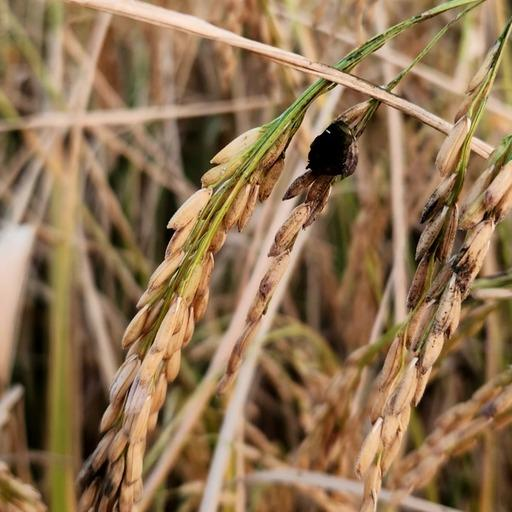Leaf_Scald: (299, 117, 376, 191)
